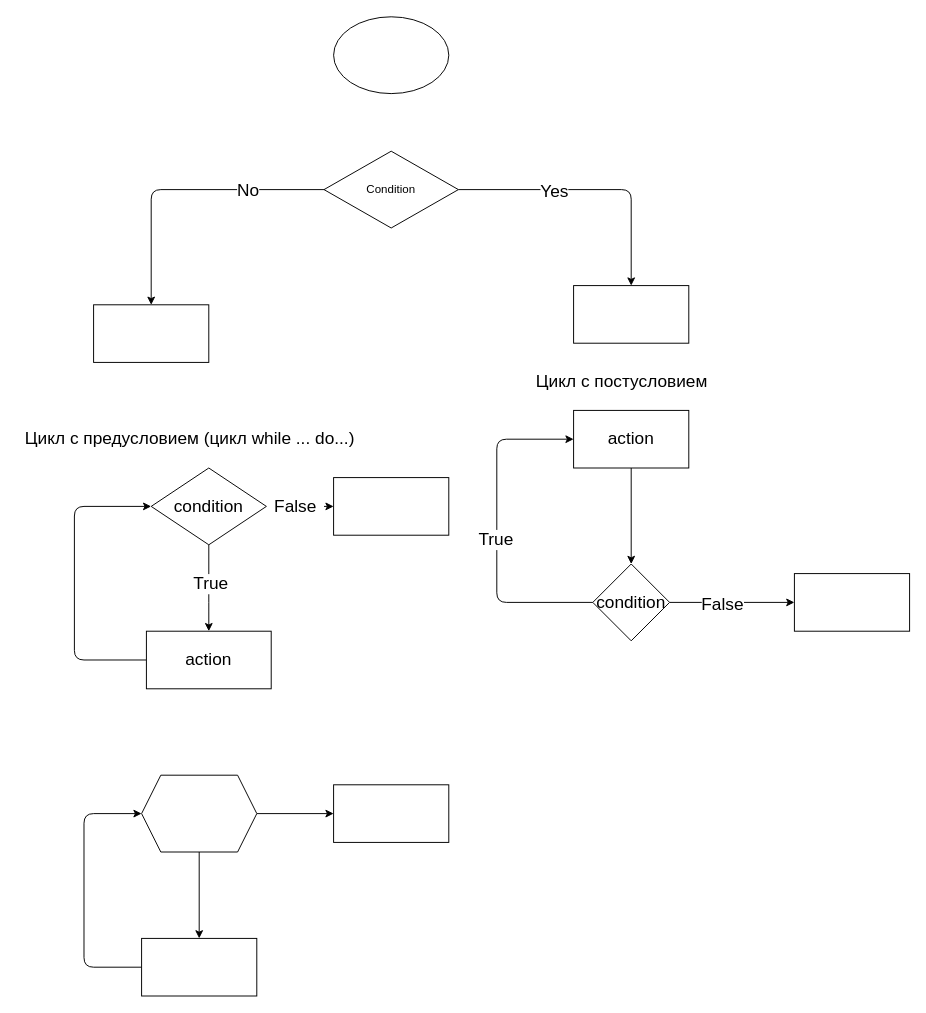
The diagram is 926 pixels wide and 1013 high, and some of its shapes have lost their labels. The shapes that lost their labels are listed below. From the top down, each one's box as (x1, y1, x2, y2) in pixels, then its label:
(333, 16, 449, 94): Start/End
(141, 774, 257, 852): Цикл For Цикл со счетчиком
